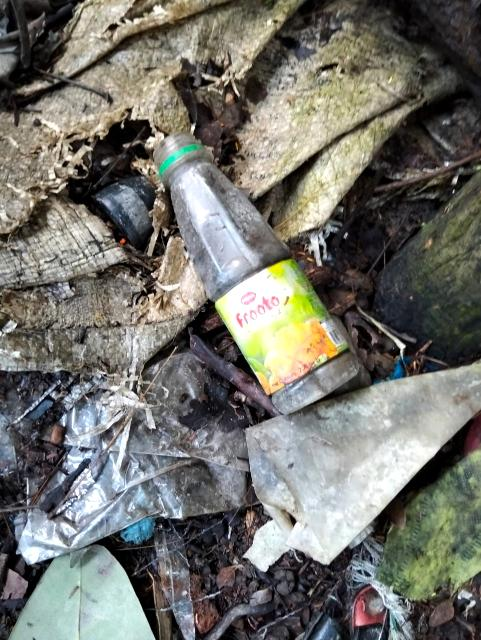bottle: (117, 100, 370, 421)
